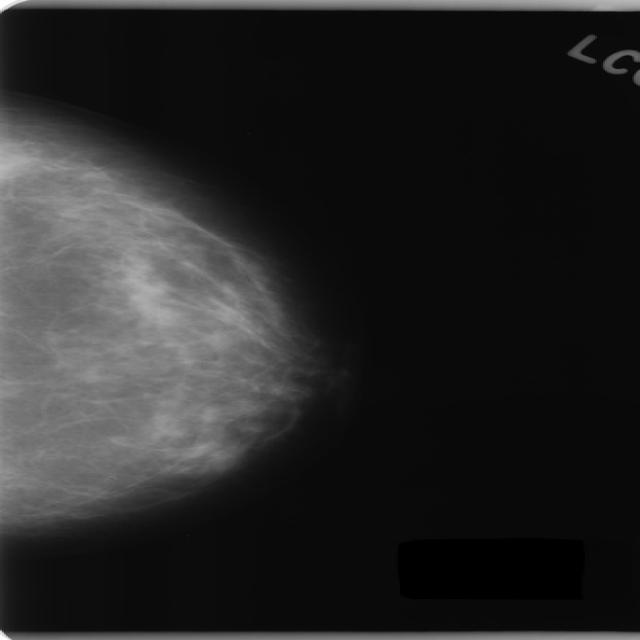tumour: (0, 140, 41, 179)
